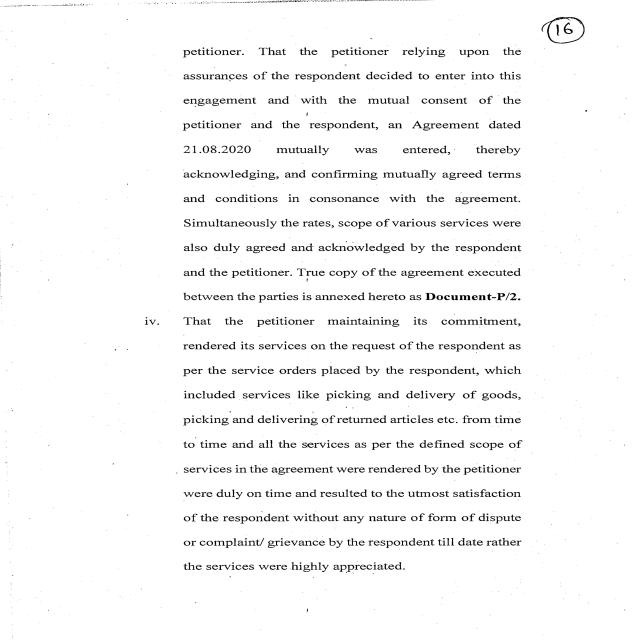page-number: (528, 0, 640, 74)
